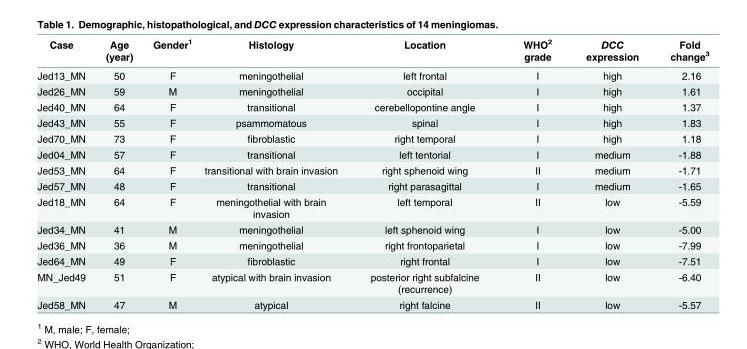table: (36, 36, 708, 310)
table column: (197, 36, 353, 310), (353, 36, 500, 310), (568, 36, 653, 310), (500, 36, 568, 310), (36, 36, 94, 310), (142, 36, 197, 310), (653, 36, 708, 310), (94, 36, 142, 310)
table column header: (36, 36, 708, 65)
table row: (36, 36, 708, 65), (36, 193, 708, 221), (36, 268, 708, 296), (36, 65, 708, 83), (36, 98, 708, 114), (36, 114, 708, 130), (36, 130, 708, 146), (36, 161, 708, 177), (36, 177, 708, 193), (36, 221, 708, 237), (36, 252, 708, 268), (36, 83, 708, 98), (36, 146, 708, 161), (36, 237, 708, 252), (36, 296, 708, 310)
